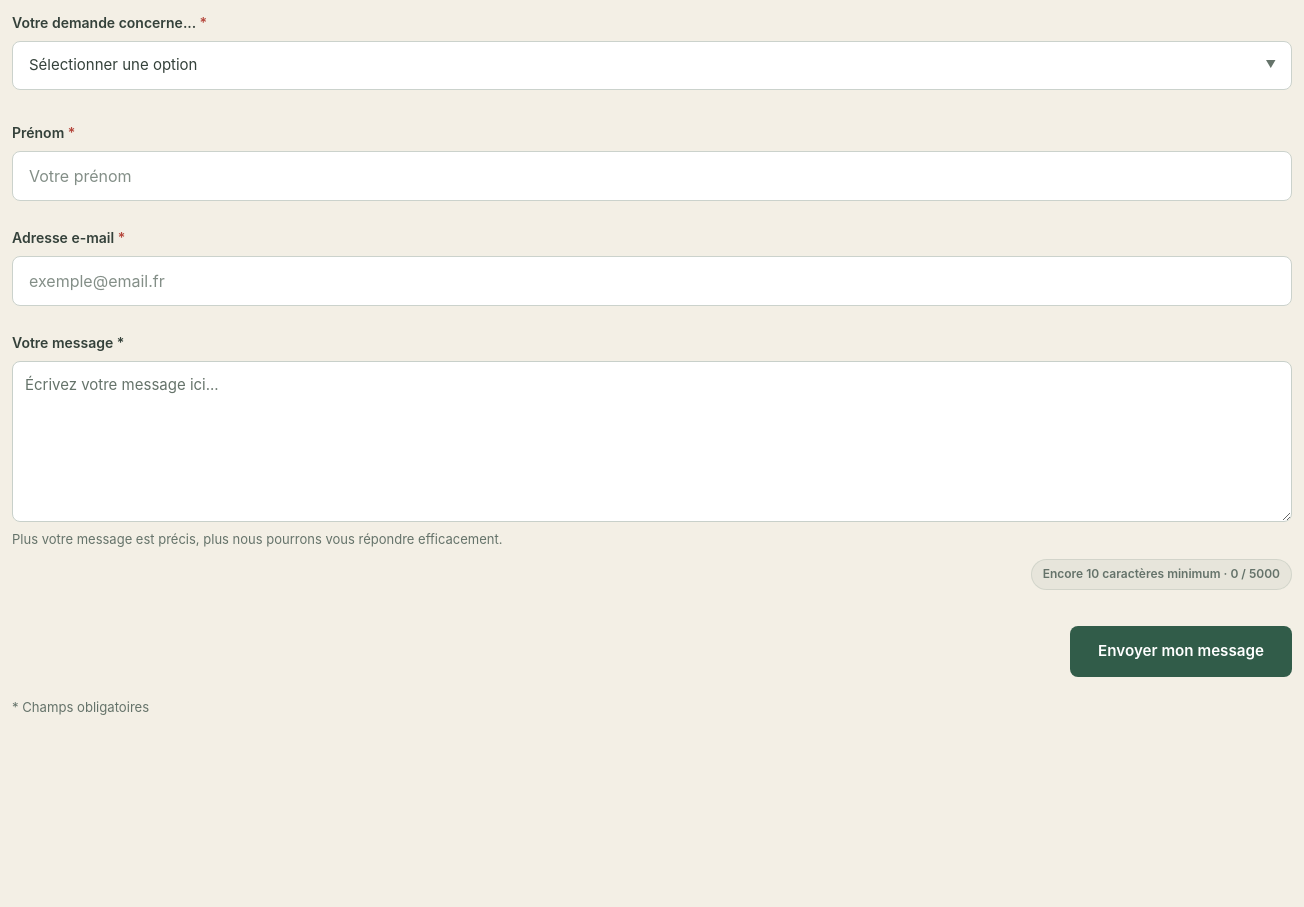
Test: ContactForm › affiche le champ de proposition de lieu uniquement pour ce motif
This screenshot has width=1304, height=907.
Expected: the field labelled "Nom du lieu" is not shown
Select "Proposer un nouveau lieu de balade" in the dropdown labelled "Votre demande concerne... *" at [652, 65], box [12, 41, 1292, 90]
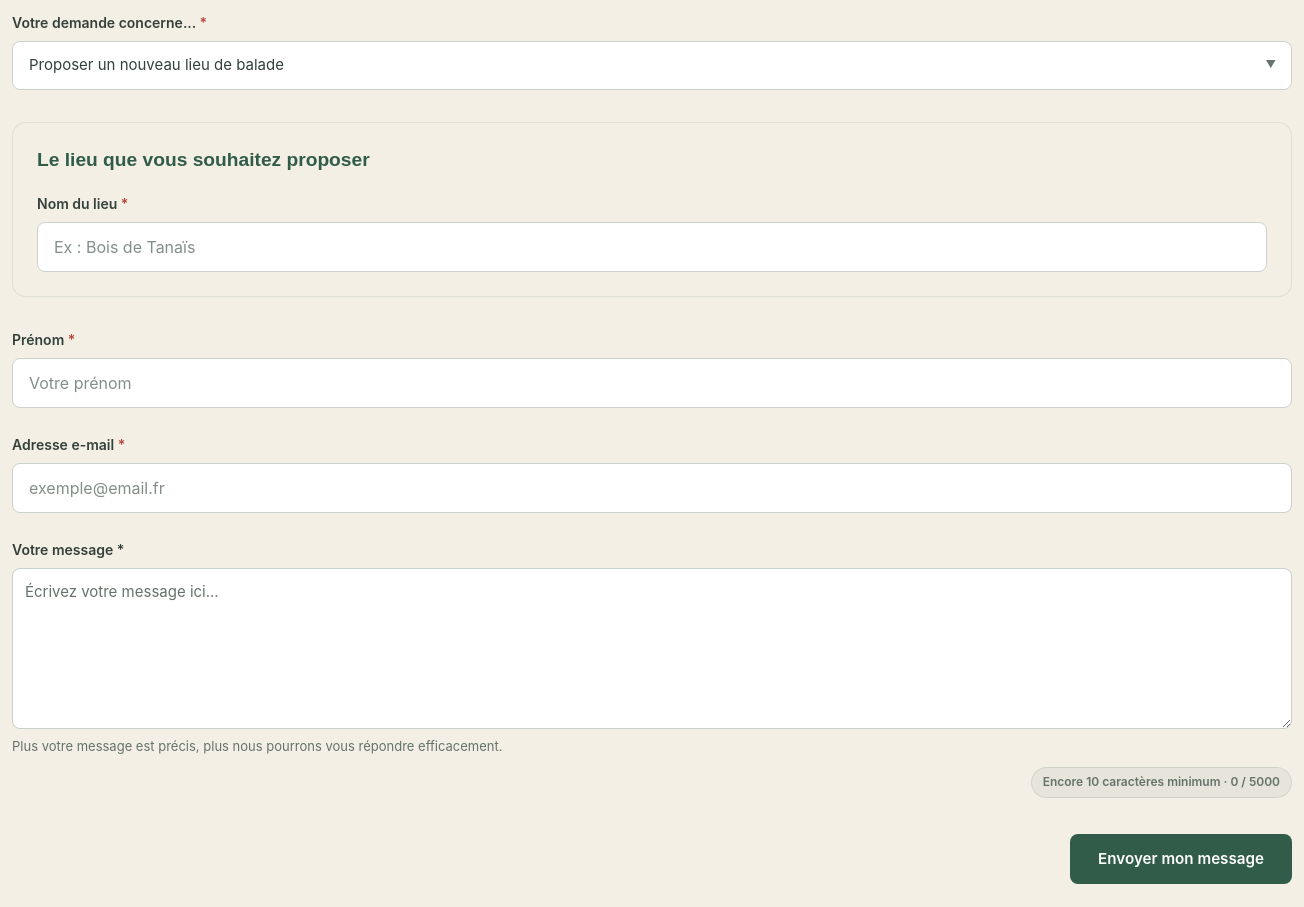
Expected: the field labelled "Nom du lieu *" is shown, [37, 222, 1267, 272]
